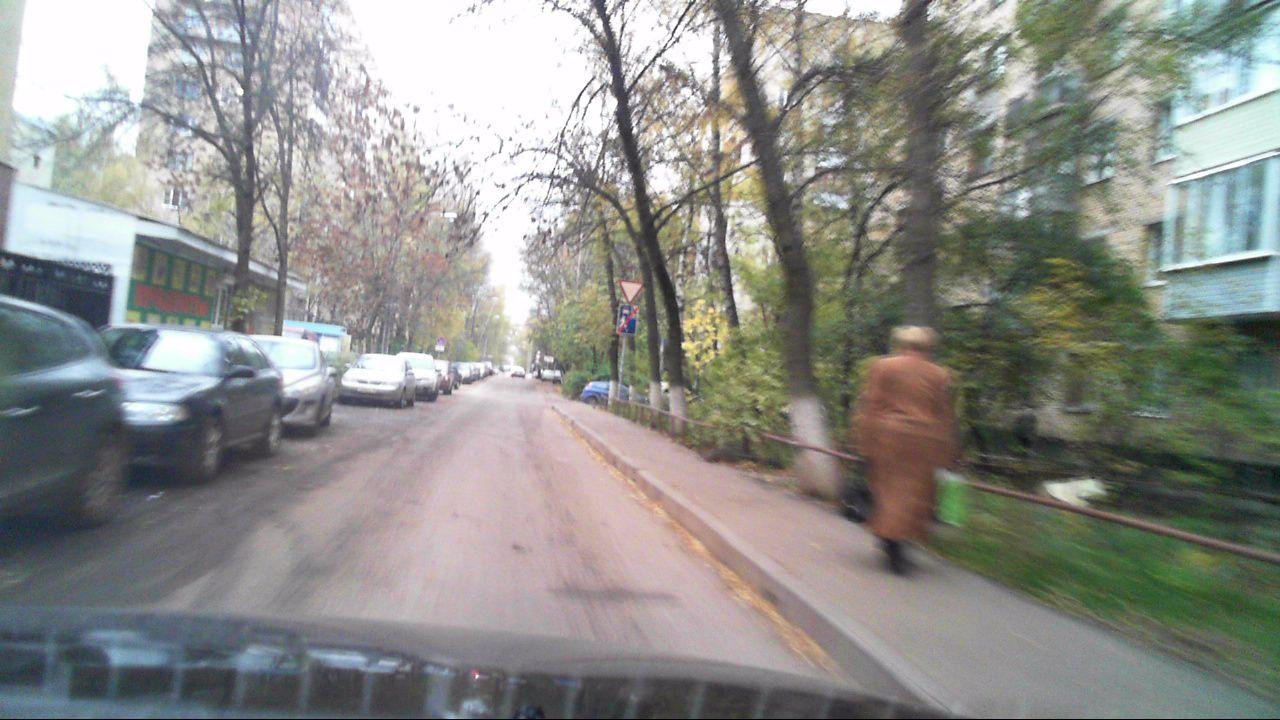2_4: (618, 279, 642, 303)
3_27: (435, 335, 446, 345)
5_22: (617, 306, 638, 333)
